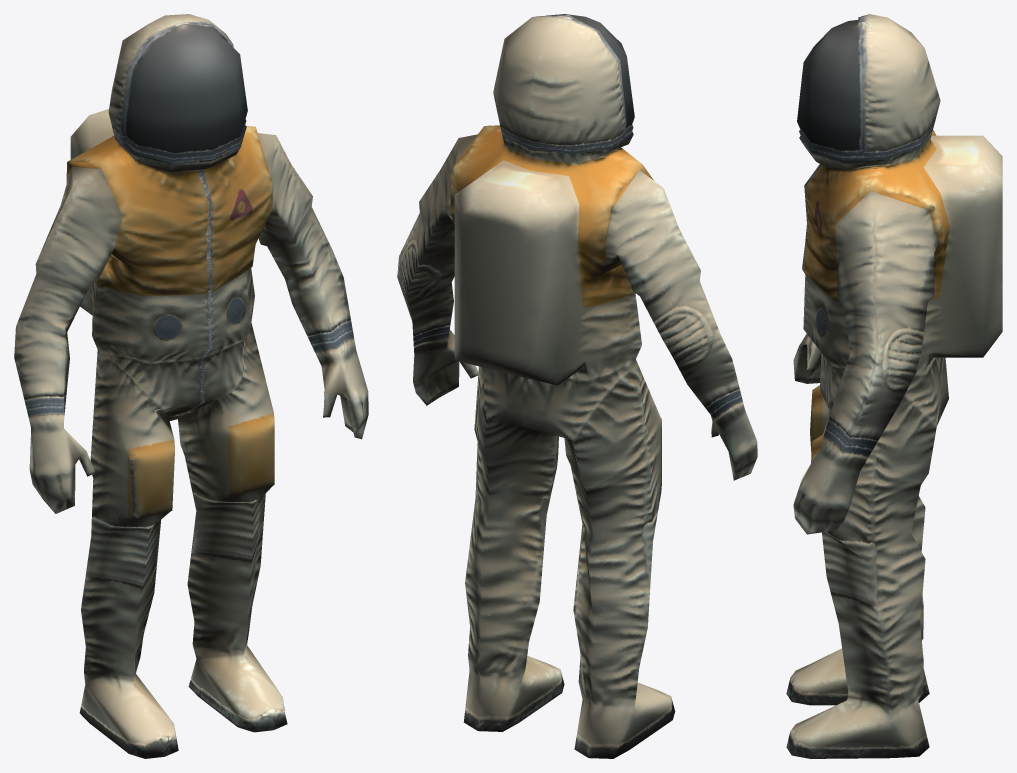
Rendered from low_poly_astronaut.glb.
3 renders of one model, left to right at view 1: azimuth 30°, elevation 25°; view 2: azimuth 150°, elevation 25°; view 3: azimuth 270°, elevation 25°, orthographic.
Parts seen in each view (by area): view 1: LOW_POLY_ASTRONAUGHT2; view 2: LOW_POLY_ASTRONAUGHT2; view 3: LOW_POLY_ASTRONAUGHT2.
Part boxes in pixels (x1,y1,x2,y2): LOW_POLY_ASTRONAUGHT2: (14,14,368,758); LOW_POLY_ASTRONAUGHT2: (397,14,757,758); LOW_POLY_ASTRONAUGHT2: (786,14,1002,758).
Bounding box in the file's own units: 2.98 × 5.93 × 1.67.
Materials: 1 (1 with a texture image).
